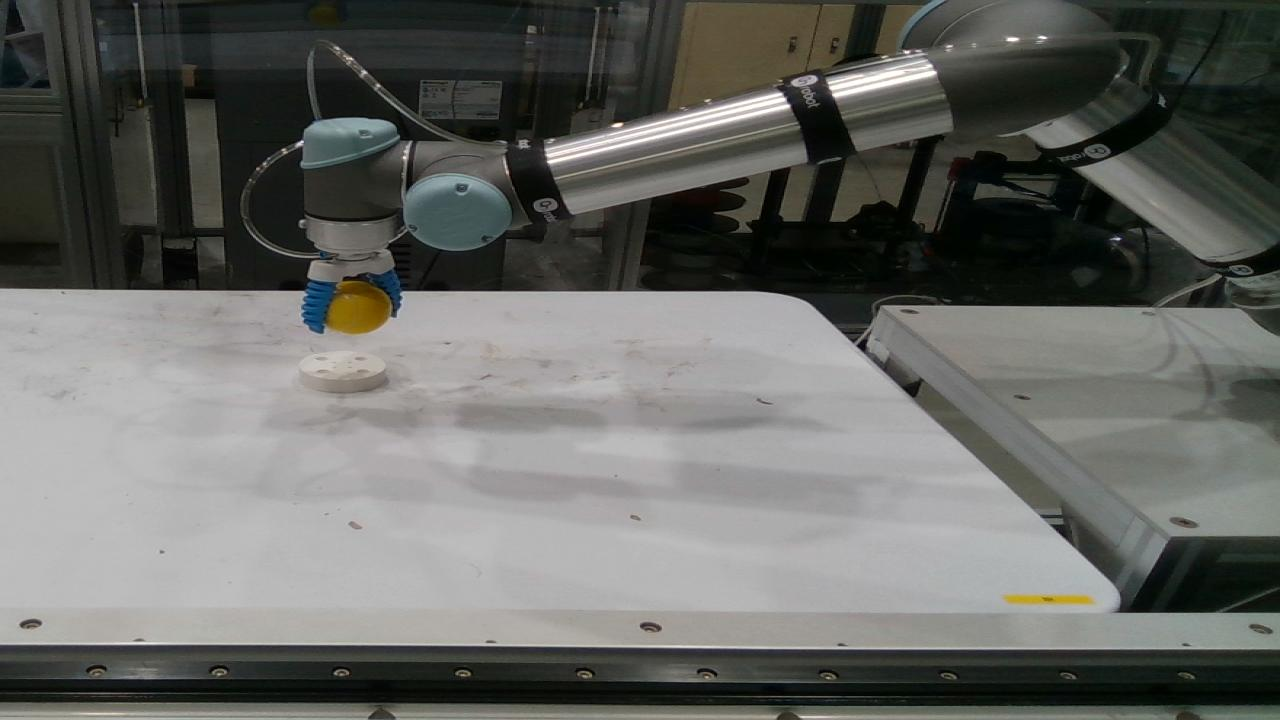UR5: (297, 0, 1279, 336)
gripper_left: (367, 268, 403, 319)
gripper_right: (302, 281, 338, 335)
target: (299, 351, 388, 394), (324, 280, 390, 334)
